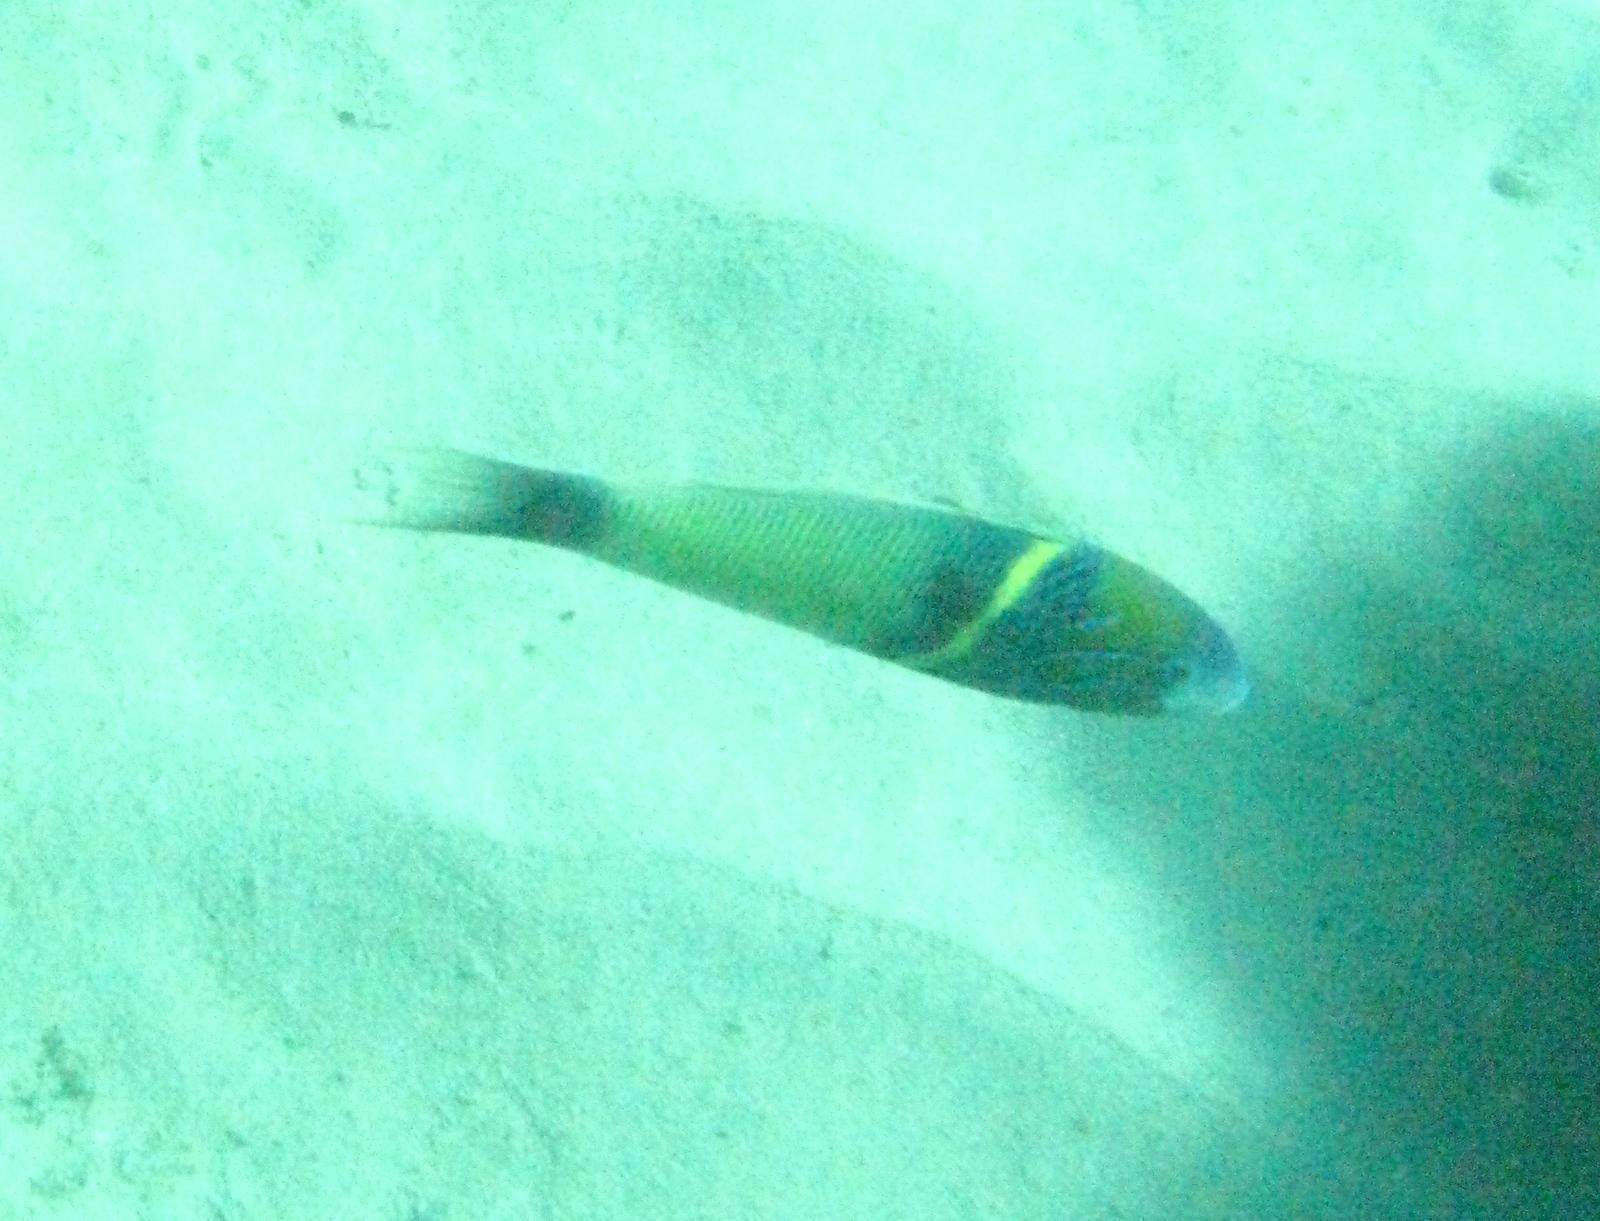Fish: (278, 332, 1418, 805)
